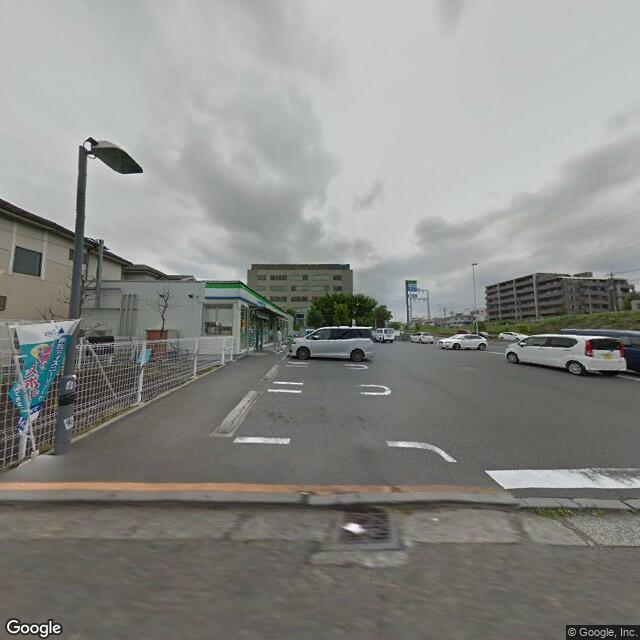family_mart: (199, 279, 292, 323), (237, 281, 295, 325), (201, 279, 242, 302)
